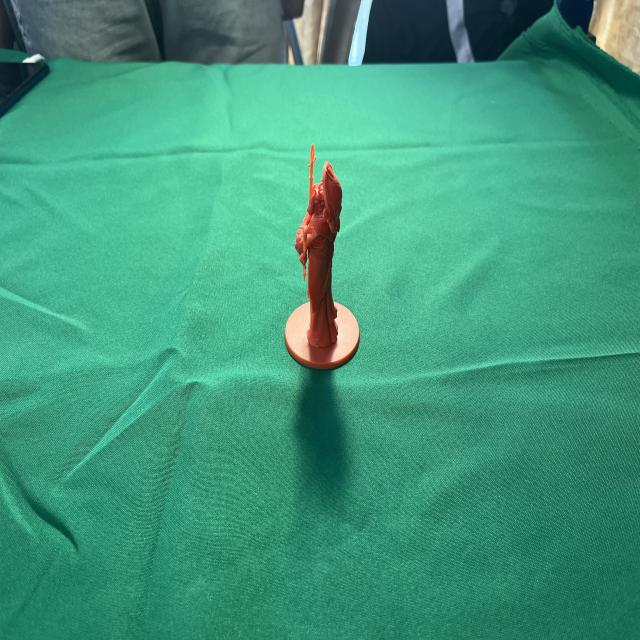amon: (278, 139, 363, 375)
